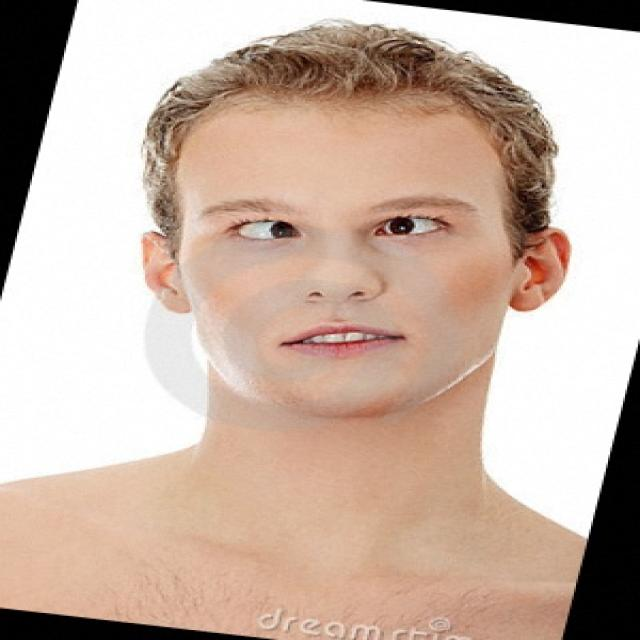Squint: (220, 210, 318, 251), (368, 198, 450, 244)
